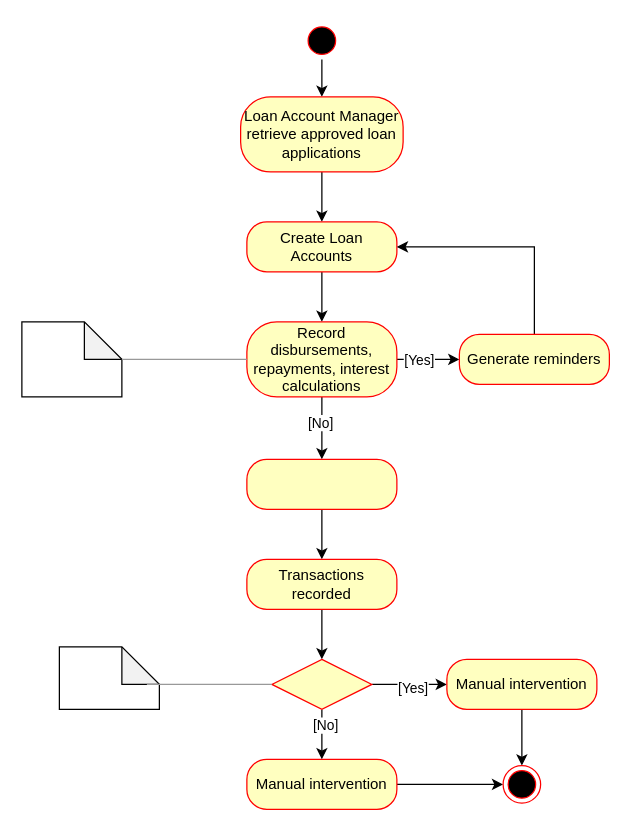
Some shapes in this 631 by 831 pixel diagram are drawn without their labels. The shapes that lost their labels are listed below. From the top down, each one's centre as x and y in pixels, then its label:
At (71,359): "Any late repayments?".
At (321,483): "Update Account Status".
At (108,677): "Any disputes?".
